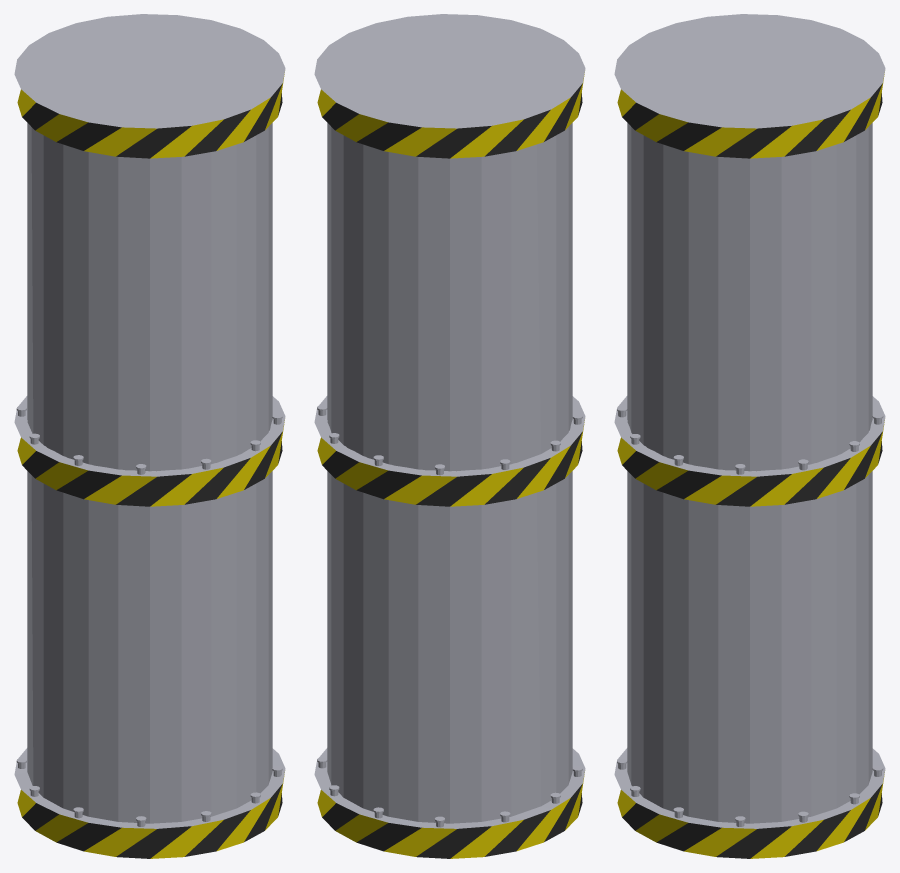
File: factorypillar.fbx
3 renders of one model, left to right at view 1: azimuth 30°, elevation 25°; view 2: azimuth 150°, elevation 25°; view 3: azimuth 270°, elevation 25°, orthographic.
Parts seen in each view (by area): view 1: Cylinder; view 2: Cylinder; view 3: Cylinder.
Part boxes in pixels (x1,y1,x2,y2): Cylinder: (14, 14, 285, 858); Cylinder: (314, 14, 585, 858); Cylinder: (614, 14, 885, 858).
Size of the model in its own units: 221 by 658 by 221.
